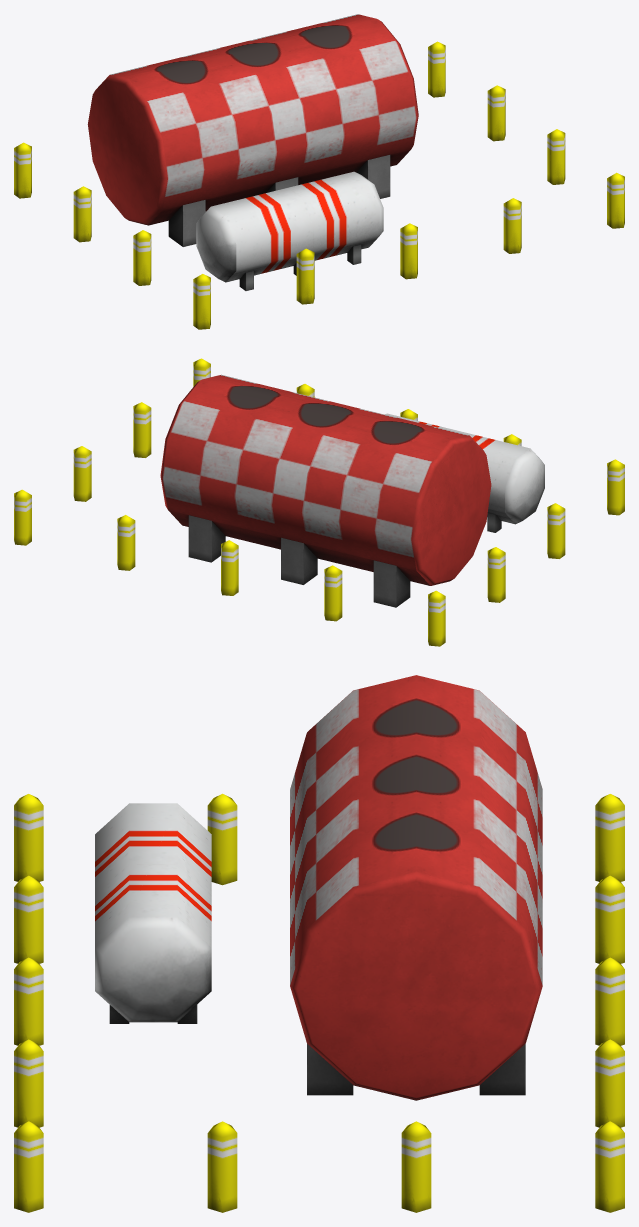
File: GasTank_Var02.fbx
3 views of the same model, one above another, from view 1: azimuth 30°, elevation 25°; view 2: azimuth 150°, elevation 25°; view 3: azimuth 270°, elevation 25° (orthographic). The views are drawn at different scales.
Parts seen in each view (by area): view 1: GasTank_Var02; view 2: GasTank_Var02; view 3: GasTank_Var02.
Part boxes in pixels (<box>): GasTank_Var02: <box>14,14,624,329</box>; GasTank_Var02: <box>14,358,624,646</box>; GasTank_Var02: <box>14,675,624,1212</box>.
Size of the model in its own units: 58.03 by 19.12 by 44.14.
